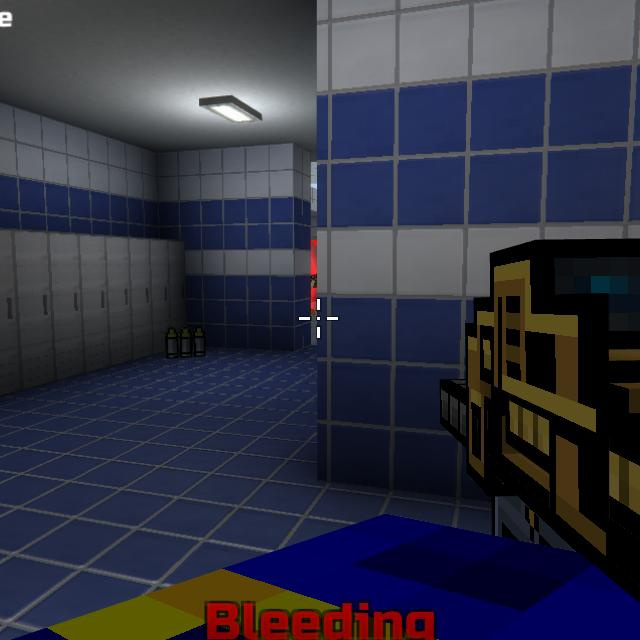Enemy: (311, 273, 317, 288)
